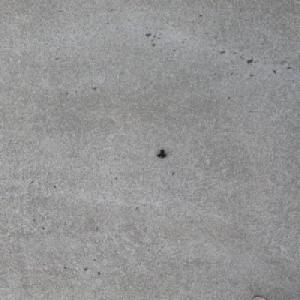BoltWasher: (156, 149, 167, 158)
